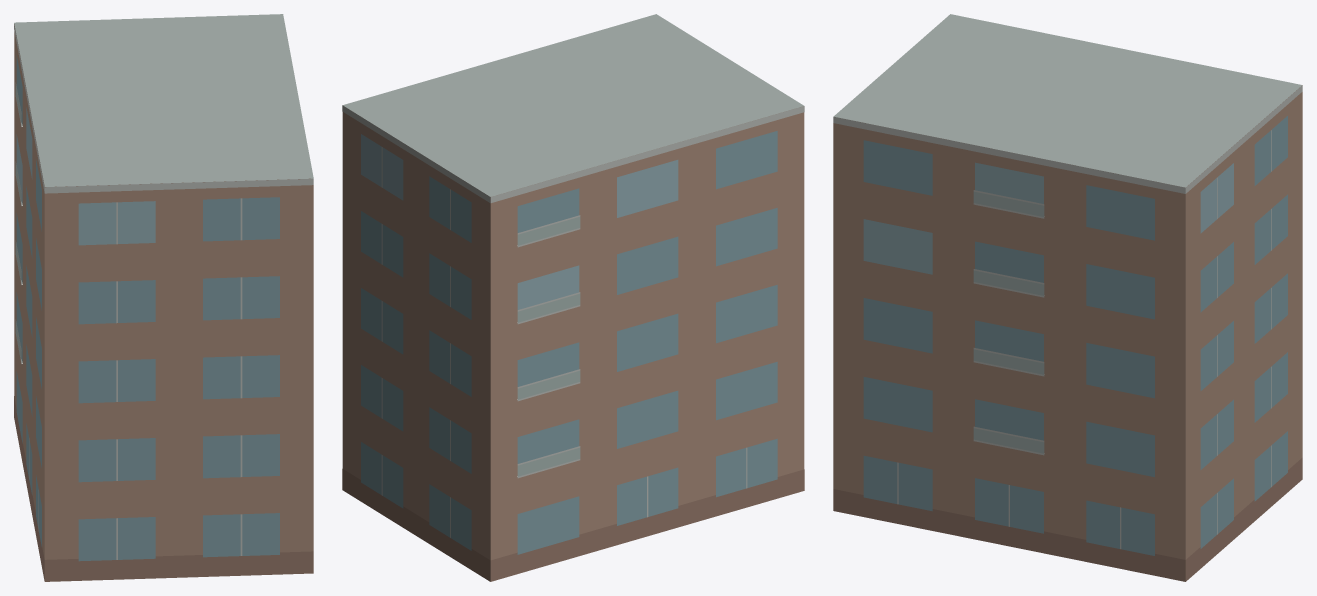
File: survey-upis-32631643.glb
3 views of the same model, side by side, from view 1: azimuth 30°, elevation 25°; view 2: azimuth 150°, elevation 25°; view 3: azimuth 270°, elevation 25° (orthographic). The views are drawn at different scales.
Parts seen in each view (by area): view 1: survey-upis-32631643.tmp; view 2: survey-upis-32631643.tmp; view 3: survey-upis-32631643.tmp.
Boxes of the visible parts, x1,y1,x2,y2 form: survey-upis-32631643.tmp: (14, 14, 313, 581); survey-upis-32631643.tmp: (342, 14, 804, 581); survey-upis-32631643.tmp: (833, 14, 1302, 581).
Size of the model in its own units: 14.07 by 14.89 by 16.07.
